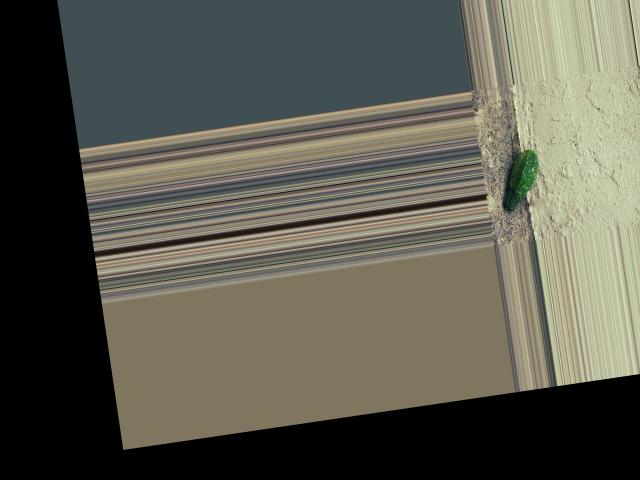cucumber: (497, 148, 545, 210)
